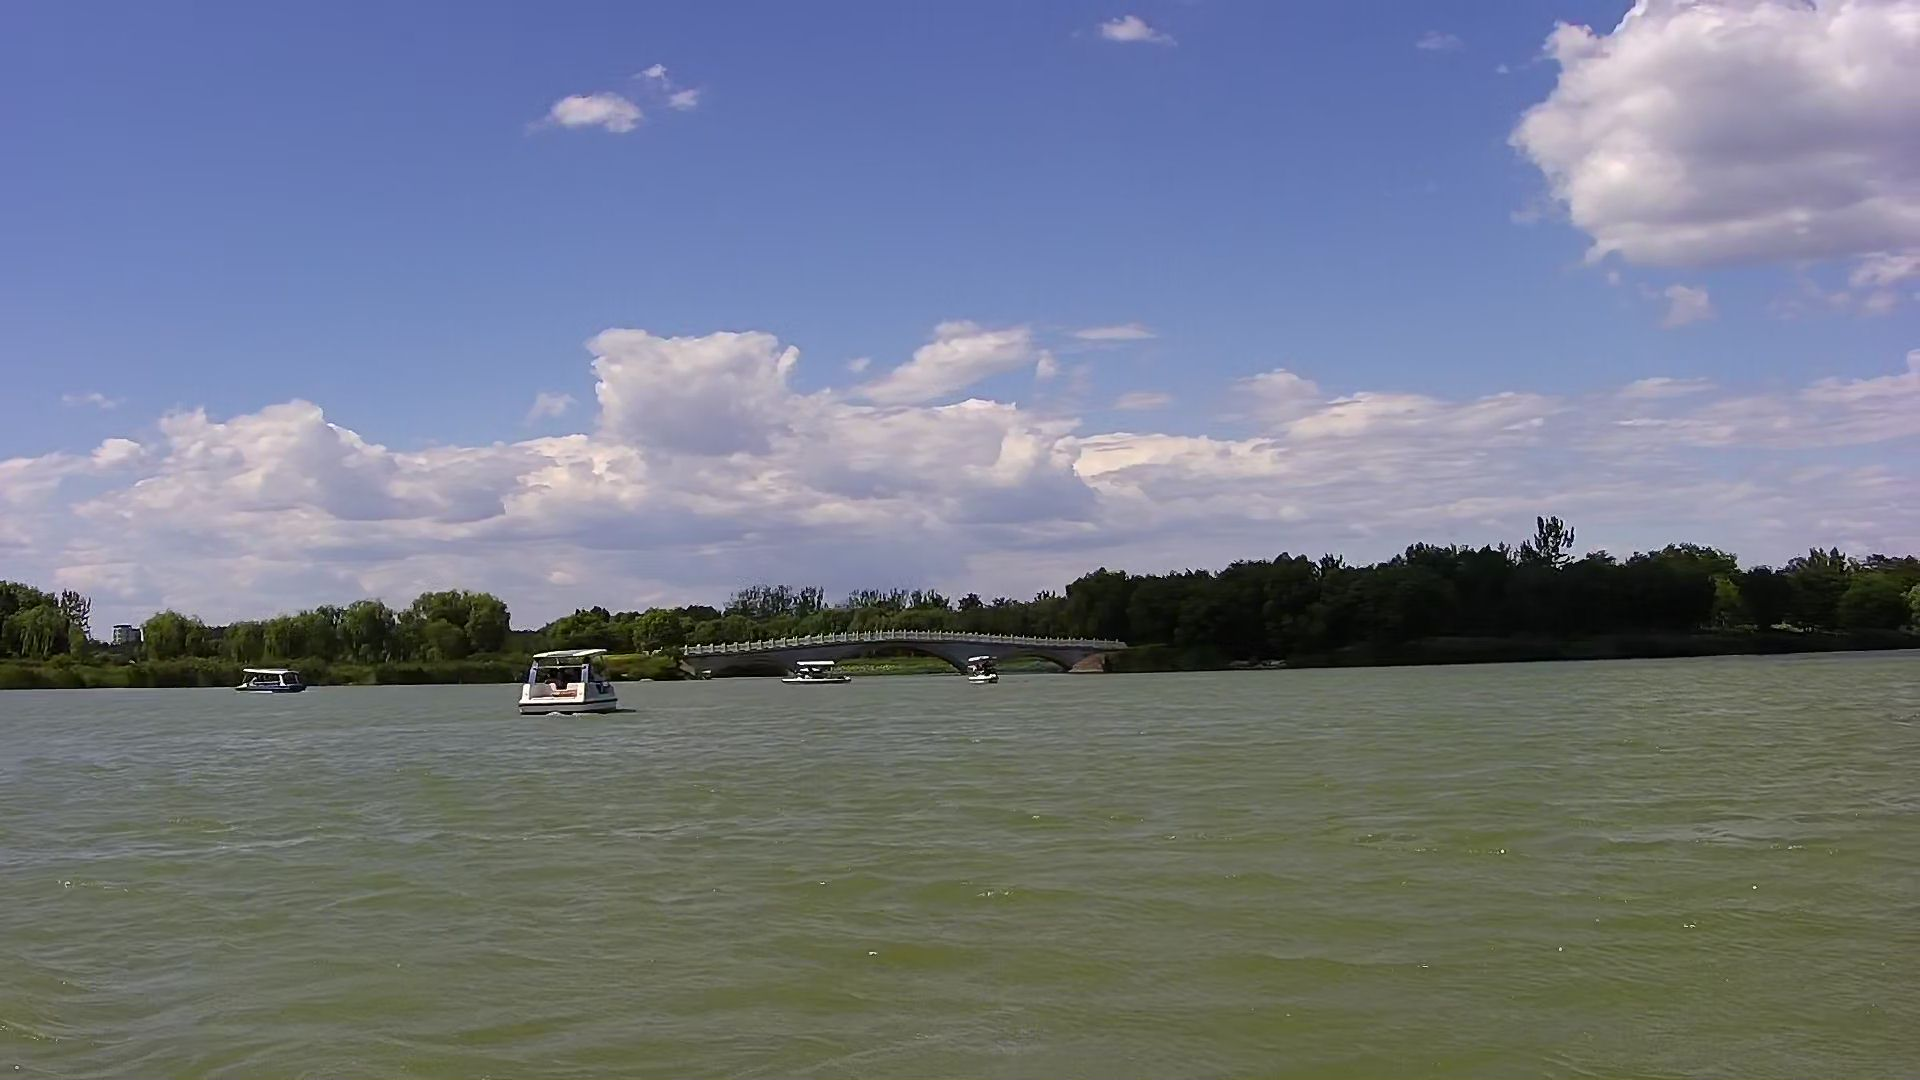boat: (508, 644, 615, 723), (233, 654, 316, 699), (781, 658, 860, 695), (960, 650, 1011, 687)
bridge: (695, 622, 1084, 682)
